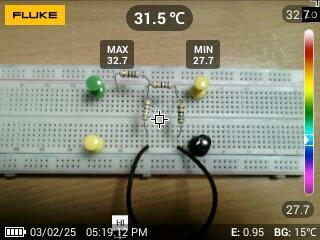resistor: (139, 98, 155, 123), (147, 79, 176, 91), (117, 67, 141, 81), (175, 102, 187, 129)
